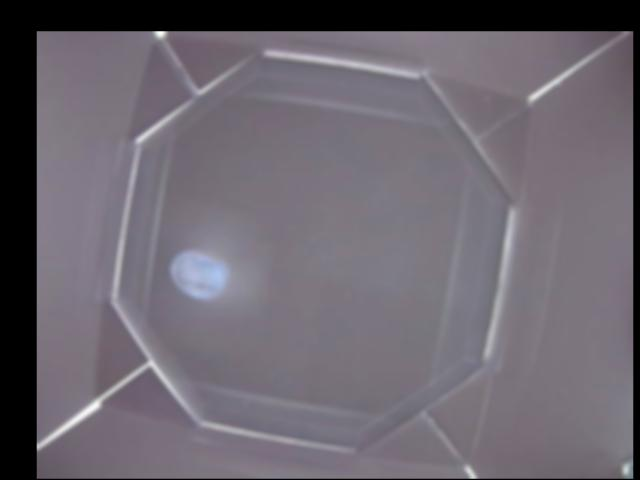Pebble: (169, 251, 226, 297)
